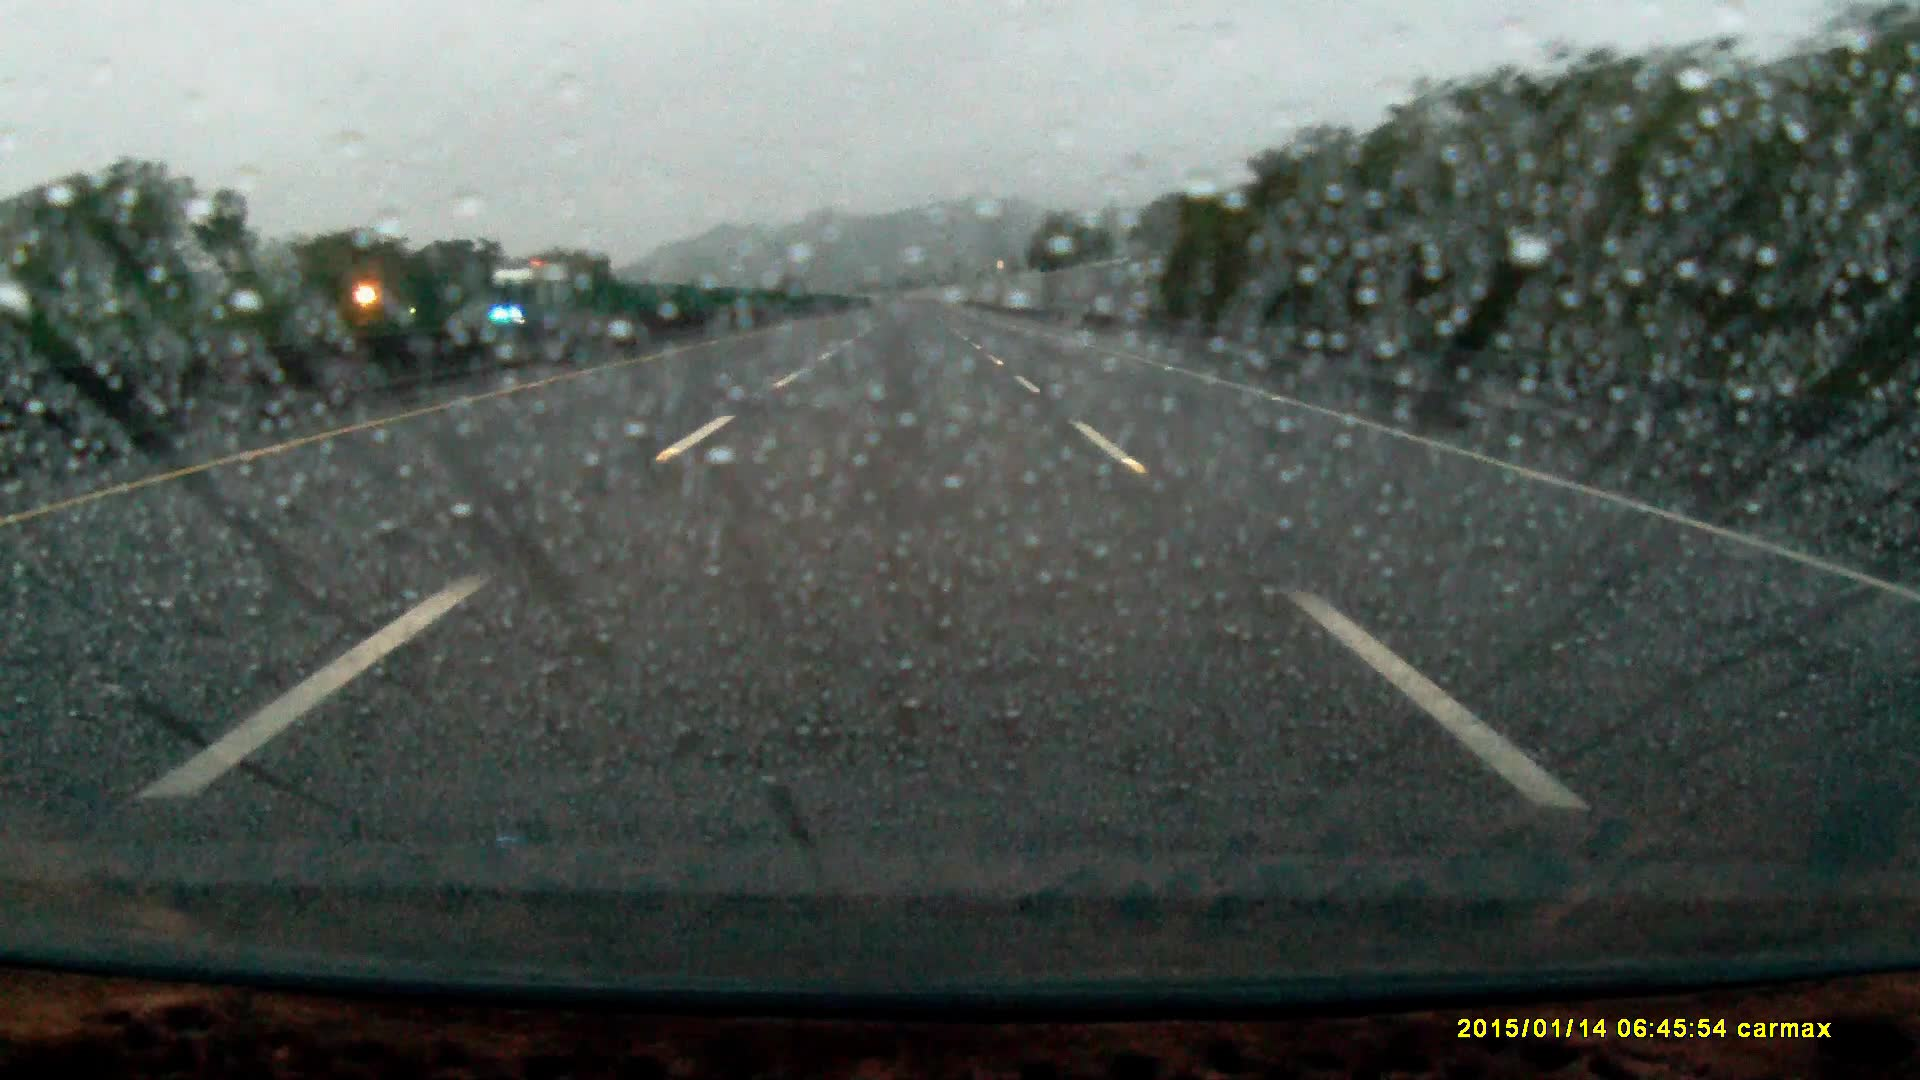vehicle: (487, 258, 575, 335)
